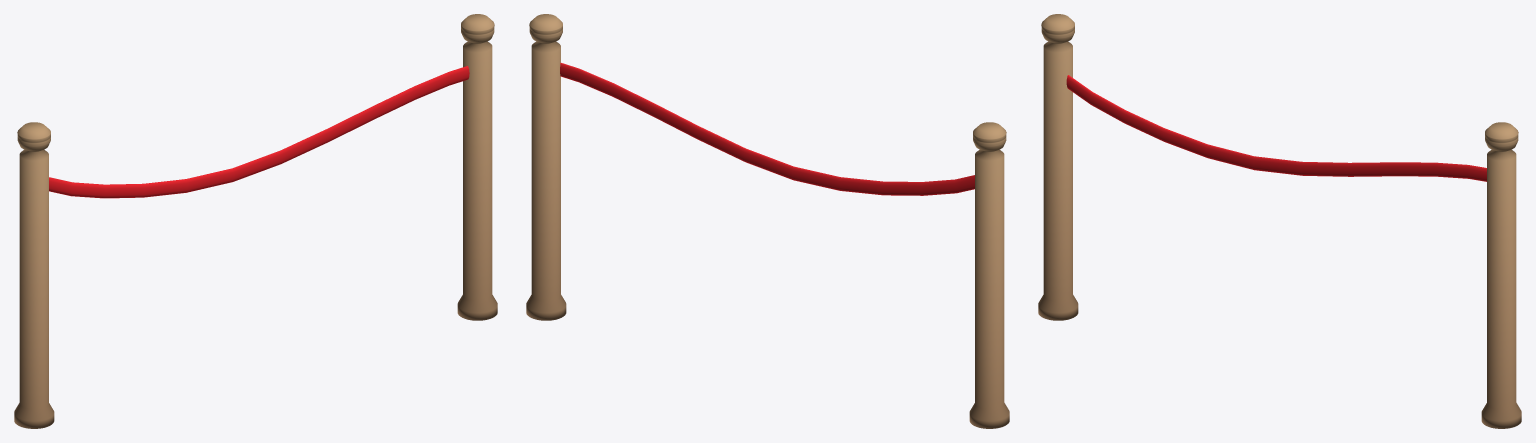
The model's file is levelend_banner.fbx.
The picture shows the model from 3 angles, left to right: view 1: azimuth 30°, elevation 25°; view 2: azimuth 150°, elevation 25°; view 3: azimuth 330°, elevation 25°; orthographic projection.
Visible parts, largest first — view 1: banner; view 2: banner; view 3: banner.
Part boxes in pixels (x1,y1,x2,y2): banner: [14, 14, 497, 428]; banner: [526, 14, 1009, 428]; banner: [1038, 14, 1521, 428].
Size of the model in its own units: 276 by 162 by 20.16.
1 material, 1 textured.
